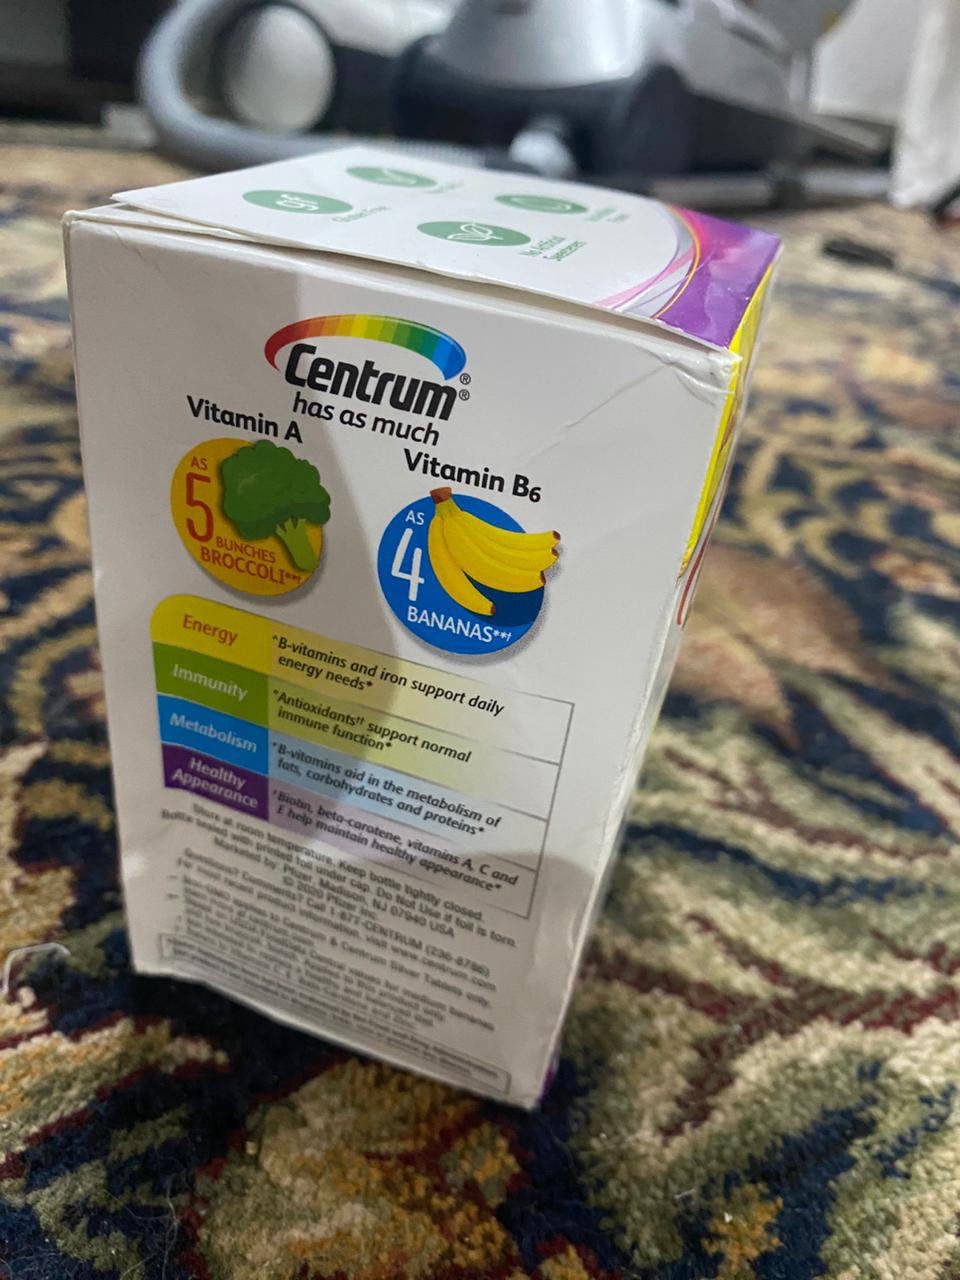Centrum: (56, 144, 795, 1116)
